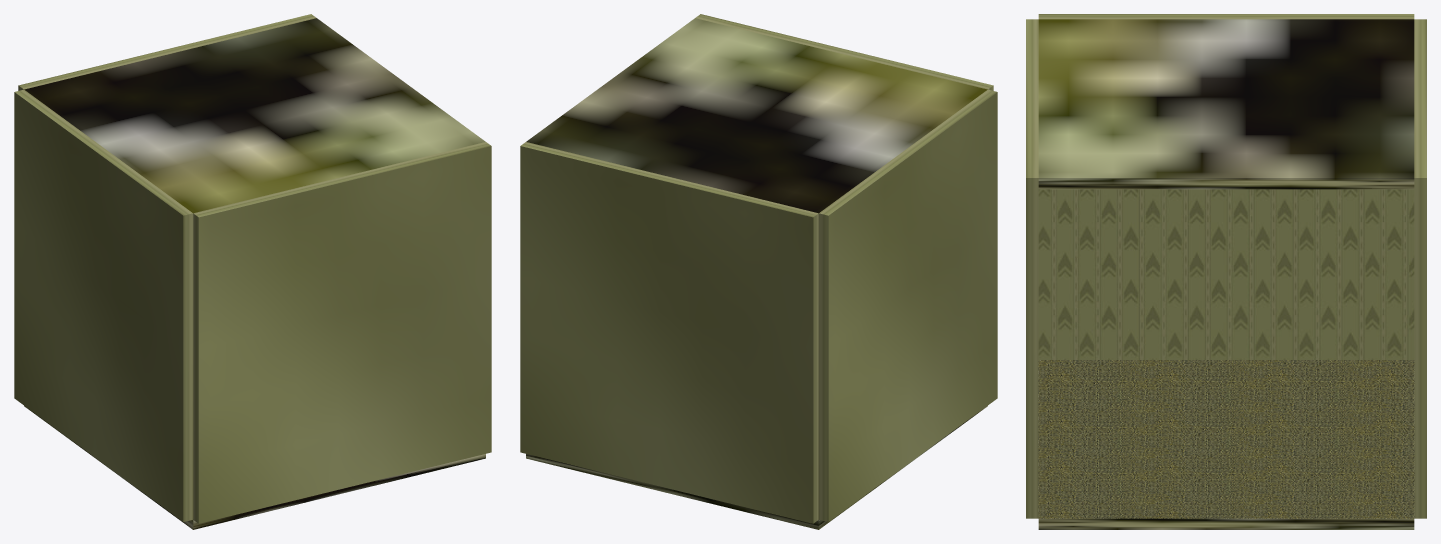
File: RoomTest_v0.fbx
3 renders of one model, left to right at view 1: azimuth 30°, elevation 25°; view 2: azimuth 150°, elevation 25°; view 3: azimuth 270°, elevation 25°, orthographic. The views are drawn at different scales.
Parts seen in each view (by area): view 1: Cube.001, Cube.002, Cube.004, Cube, Cube.003; view 2: Cube.003, Cube.002, Cube.004, Cube, Cube.001; view 3: Cube.002, Cube.004, Cube, Cube.001, Cube.003.
Part boxes in pixels (x1,y1,x2,y2): Cube.001: [193, 142, 491, 523]; Cube.002: [14, 89, 193, 521]; Cube.004: [24, 18, 485, 213]; Cube: [24, 406, 485, 529]; Cube.003: [18, 14, 316, 90]; Cube.003: [520, 142, 818, 523]; Cube.002: [818, 89, 997, 521]; Cube.004: [526, 18, 987, 213]; Cube: [526, 406, 987, 529]; Cube.001: [695, 14, 993, 90]; Cube.002: [1038, 14, 1414, 359]; Cube.004: [1038, 19, 1414, 189]; Cube: [1038, 360, 1414, 529]; Cube.001: [1026, 19, 1038, 518]; Cube.003: [1414, 19, 1426, 518].
Bounding box in the file's own units: 620 × 620 × 640.
